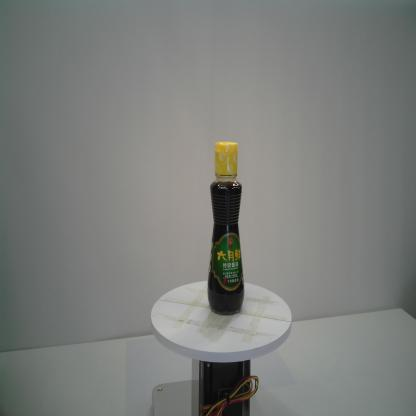Seasoner: (205, 139, 246, 314)
